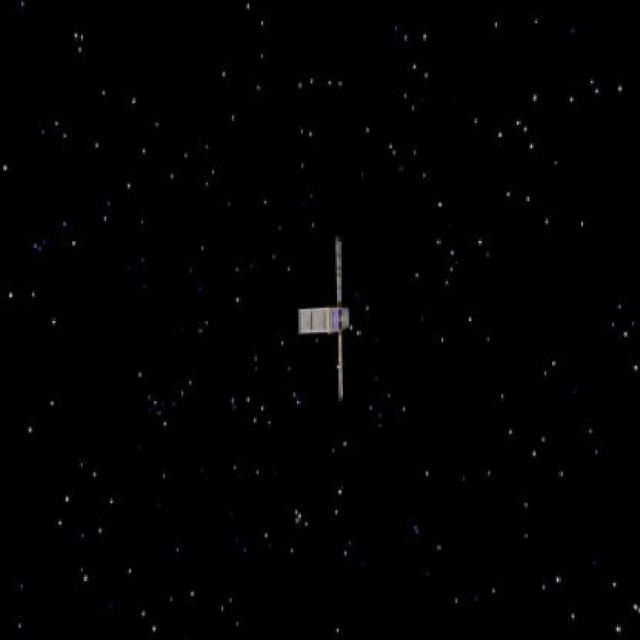medium_debris: (283, 232, 369, 410)
